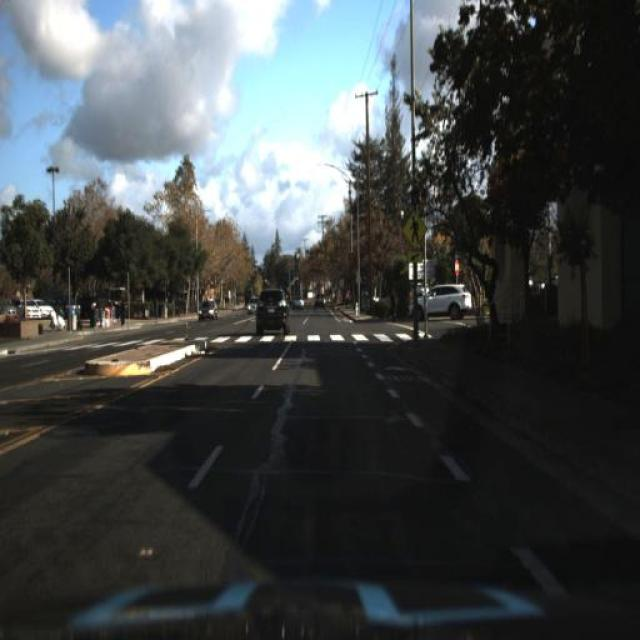car: (246, 273, 299, 346), (412, 284, 476, 322), (252, 288, 289, 341), (8, 294, 42, 326), (32, 292, 58, 317), (196, 296, 222, 319), (312, 288, 329, 314), (289, 291, 305, 311)
trafficLight: (388, 285, 400, 321), (117, 296, 128, 333)
